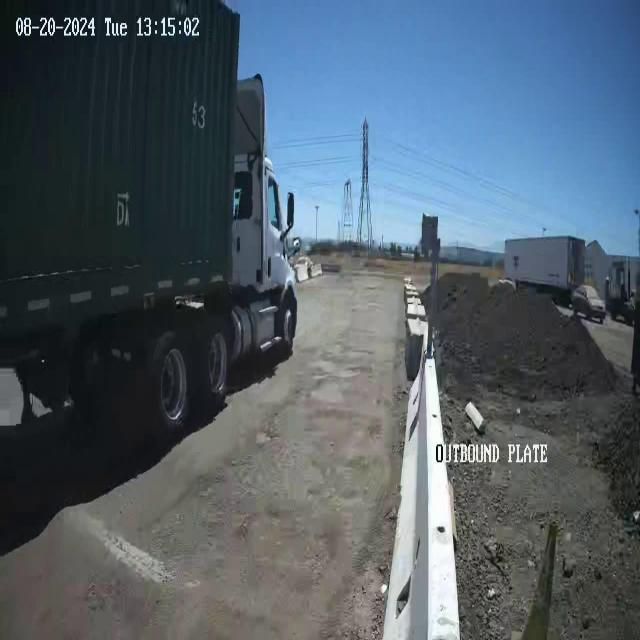TRUCK_CONTAINER: (1, 1, 301, 448)
